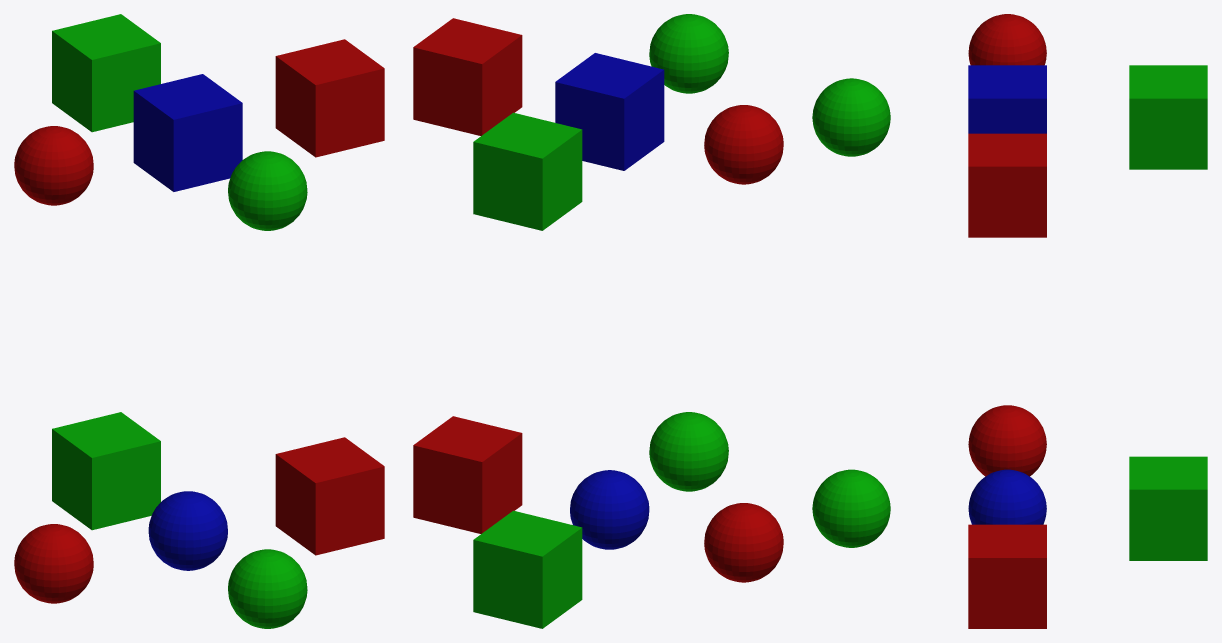
Rendered from alignment.obj.
3 views of the same model, side by side, from view 1: azimuth 30°, elevation 25°; view 2: azimuth 150°, elevation 25°; view 3: azimuth 270°, elevation 25° (orthographic).
Parts seen in each view (by area): view 1: Cube.001, Cube.004_Cube.006, Cube.005_Cube.007, Cube.002, Cube.003_Cube.005, Sphere.003, Sphere, Sphere.004, Sphere.001, Sphere.002; view 2: Cube.003_Cube.005, Cube.002, Cube.004_Cube.006, Cube.001, Cube.005_Cube.007, Sphere.003, Sphere.001, Sphere, Sphere.004, Sphere.002; view 3: Cube.004_Cube.006, Cube.003_Cube.005, Cube.002, Cube.001, Cube.005_Cube.007, Sphere.002, Sphere.001, Sphere, Sphere.004, Sphere.003.
Part boxes in pixels (x1,y1,x2,y2): Cube.001: (275,437,384,555); Cube.004_Cube.006: (275,39,384,157); Cube.005_Cube.007: (133,74,242,191); Cube.002: (52,412,160,530); Cube.003_Cube.005: (52,14,160,132); Sphere.003: (14,126,93,205); Sphere: (14,524,93,603); Sphere.004: (148,491,227,570); Sphere.001: (228,549,307,628); Sphere.002: (228,151,307,230); Cube.003_Cube.005: (473,112,582,230); Cube.002: (473,510,582,628); Cube.004_Cube.006: (413,18,522,135); Cube.001: (413,416,522,533); Cube.005_Cube.007: (555,53,664,170); Sphere.003: (704,105,783,184); Sphere.001: (649,412,728,491); Sphere: (704,503,783,582); Sphere.004: (570,470,649,549); Sphere.002: (649,14,728,93); Cube.004_Cube.006: (968,133,1046,237); Cube.003_Cube.005: (1129,65,1207,169); Cube.002: (1129,456,1207,560); Cube.001: (968,524,1046,628); Cube.005_Cube.007: (968,65,1046,133); Sphere.002: (812,78,890,156); Sphere.001: (812,469,890,547); Sphere: (968,405,1046,476); Sphere.004: (968,469,1046,524); Sphere.003: (968,14,1046,65).
Bounding box in the file's own units: 10 × 13.01 × 10.08.
